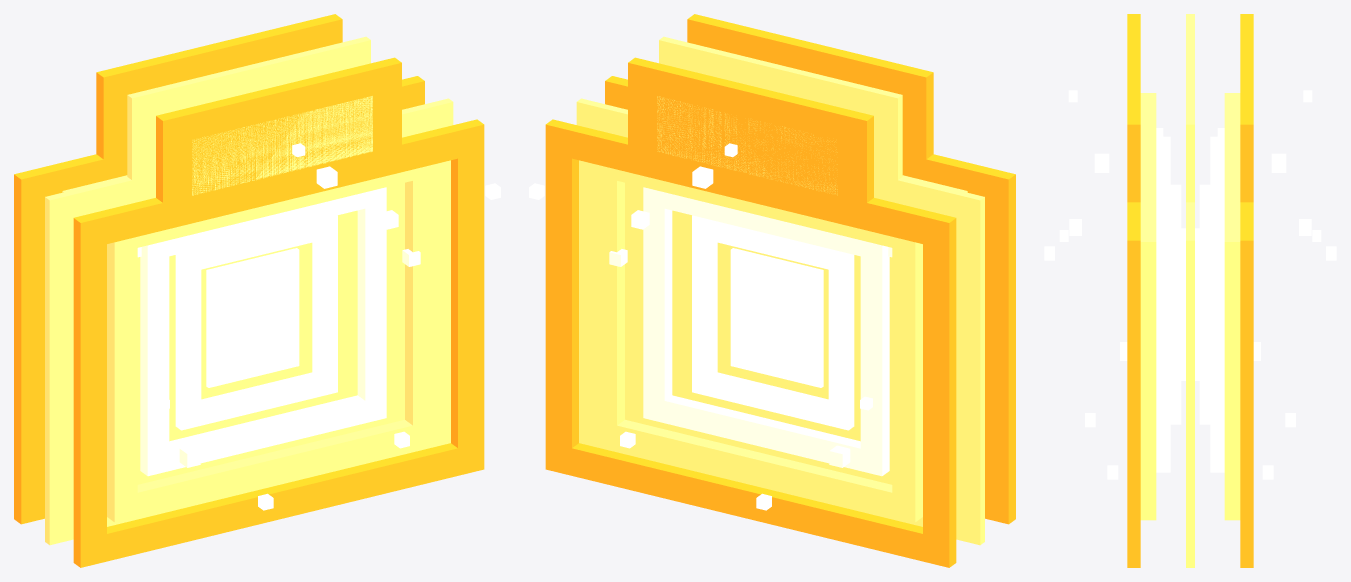
The model's file is tt-portal-orange.glb.
The picture shows the model from 3 angles, left to right: view 1: azimuth 30°, elevation 25°; view 2: azimuth 150°, elevation 25°; view 3: azimuth 270°, elevation 25°; orthographic projection. The views are drawn at different scales.
Visible parts, largest first — view 1: box-prop; view 2: box-prop; view 3: box-prop.
Part boxes in pixels (bbox=[...]): box-prop: bbox=[14, 14, 500, 567]; box-prop: bbox=[529, 14, 1015, 567]; box-prop: bbox=[1044, 14, 1336, 567].
Size of the model in its own units: 4.9 by 4.95 by 3.24.
